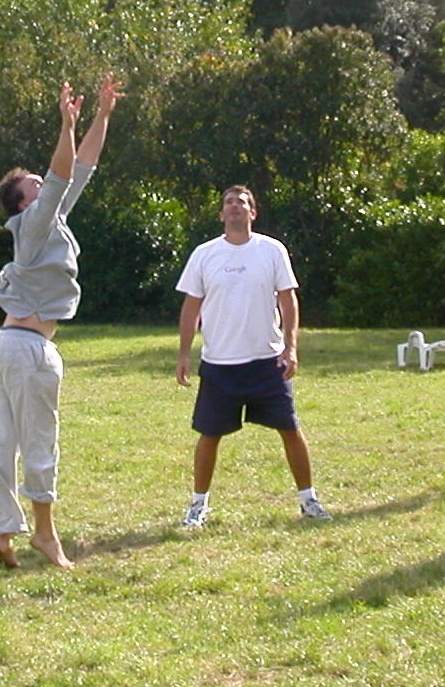person: (172, 178, 324, 531)
